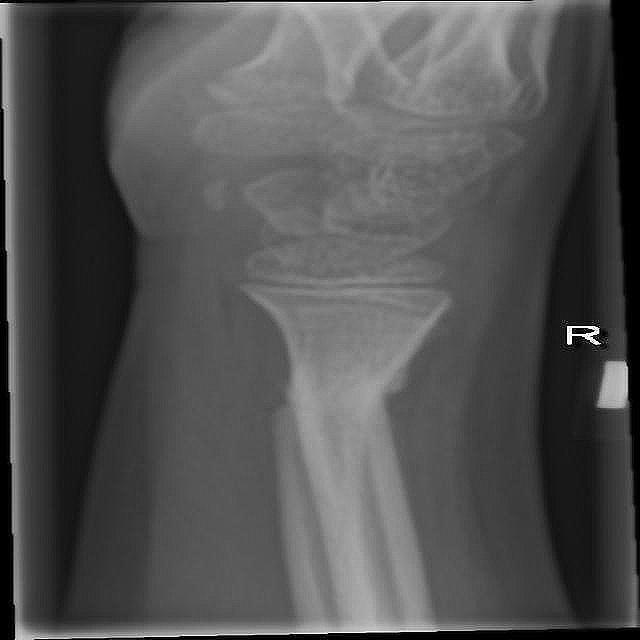bone: (264, 362, 413, 430)
